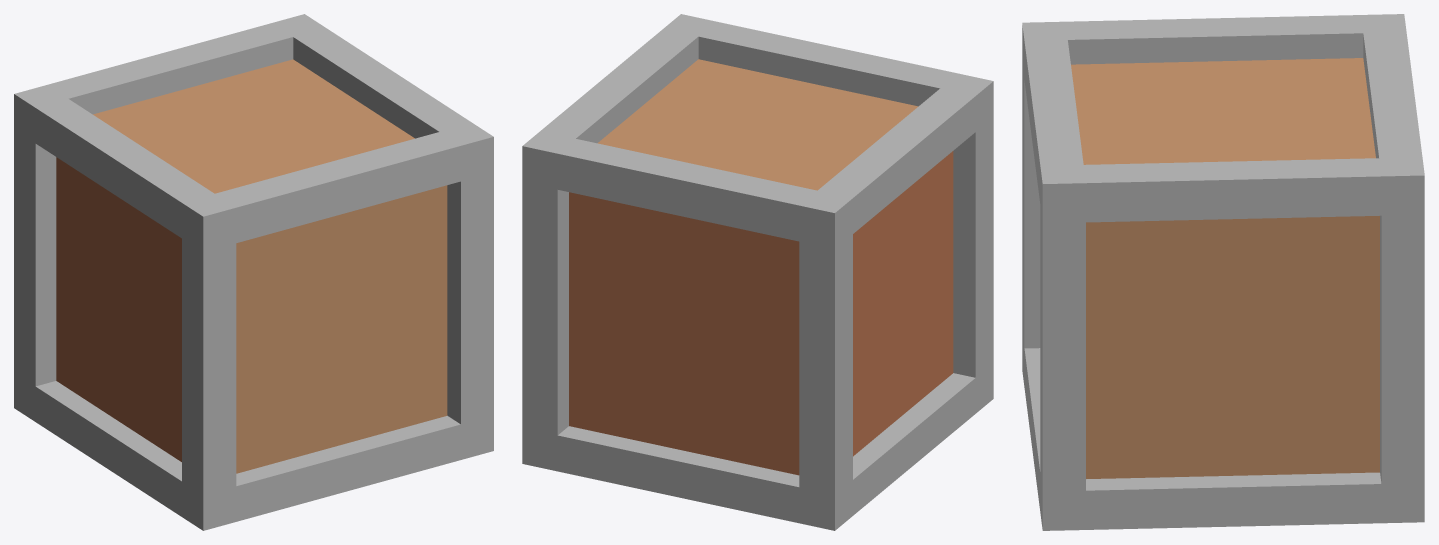
File: Boxes.fbx
3 renders of one model, left to right at view 1: azimuth 30°, elevation 25°; view 2: azimuth 150°, elevation 25°; view 3: azimuth 270°, elevation 25°, orthographic. The views are drawn at different scales.
Visible parts, largest first — view 1: Pallet.002; view 2: Pallet.002; view 3: Pallet.002.
Part boxes in pixels (x1=…): Pallet.002: x1=14, y1=14, x2=493, y2=530; Pallet.002: x1=522, y1=14, x2=993, y2=530; Pallet.002: x1=1022, y1=14, x2=1424, y2=530.
Bounding box in the file's own units: 210 × 200 × 210.
1 material, 1 textured.
